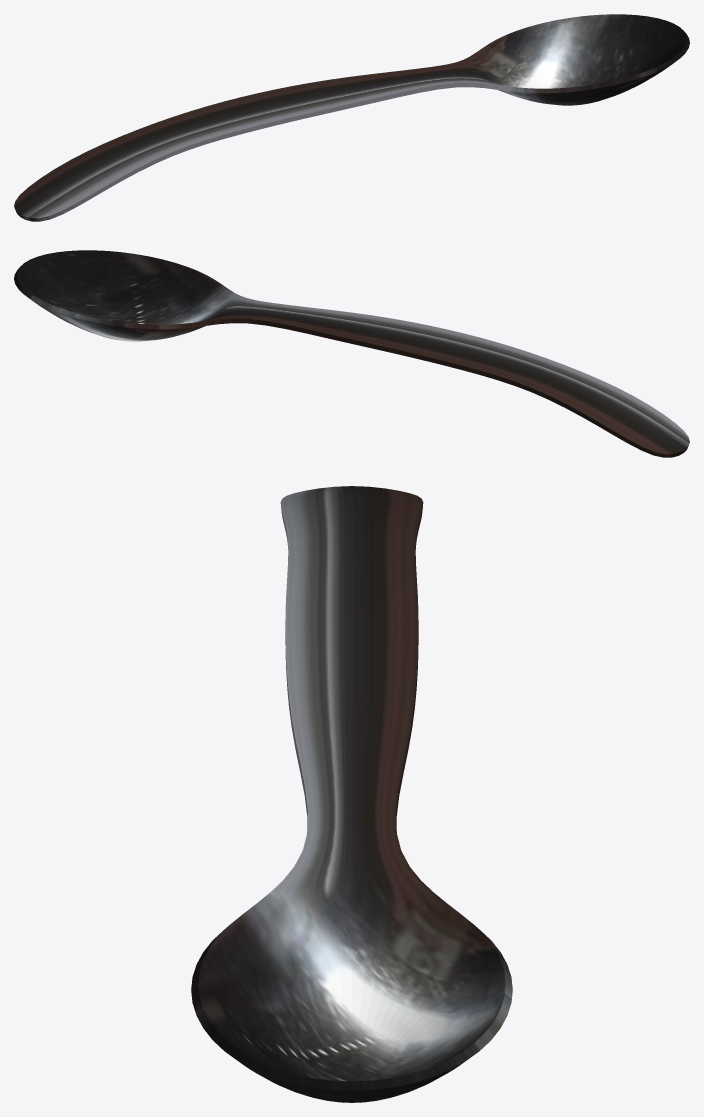
The model's file is Cuchara.fbx.
3 renders of one model, top to bottom at view 1: azimuth 30°, elevation 25°; view 2: azimuth 150°, elevation 25°; view 3: azimuth 270°, elevation 25°, orthographic. The views are drawn at different scales.
Parts seen in each view (by area): view 1: Círculo; view 2: Círculo; view 3: Círculo.
Part boxes in pixels (left/top/right/bottom): Círculo: left=14, top=14, right=689, bottom=221; Círculo: left=14, top=250, right=689, bottom=457; Círculo: left=191, top=486, right=512, bottom=1102.
Bounding box in the file's own units: 127 × 11.83 × 26.68.
Materials: 1 (1 with a texture image).
